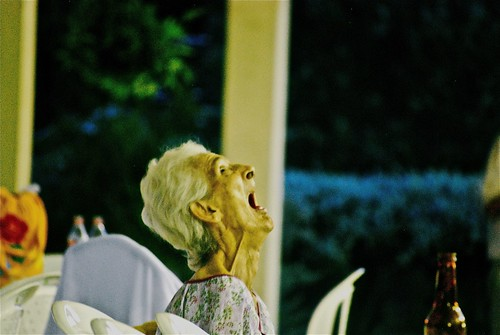female: (139, 139, 277, 335)
